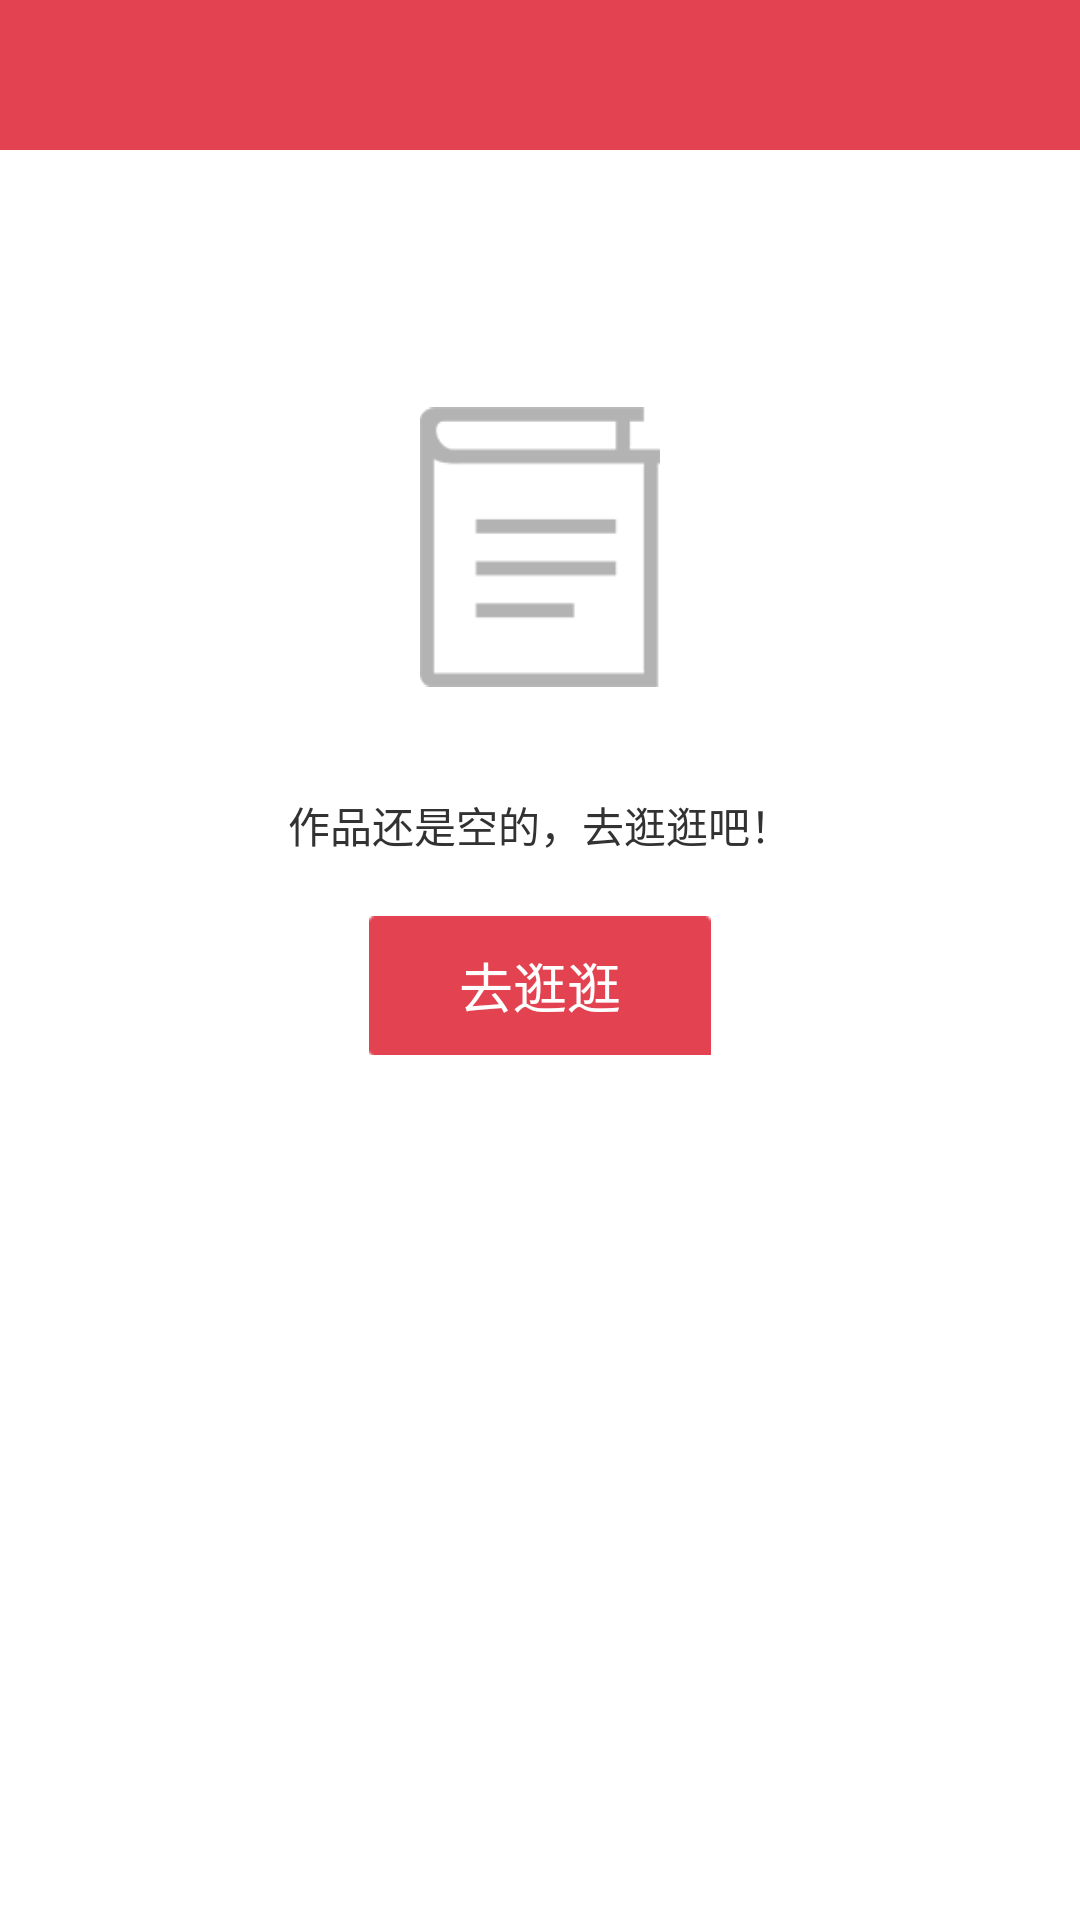

Point at icon controls on the screen. Image size 1080 × 1920, points as (x,y).
works null: (540,547)
